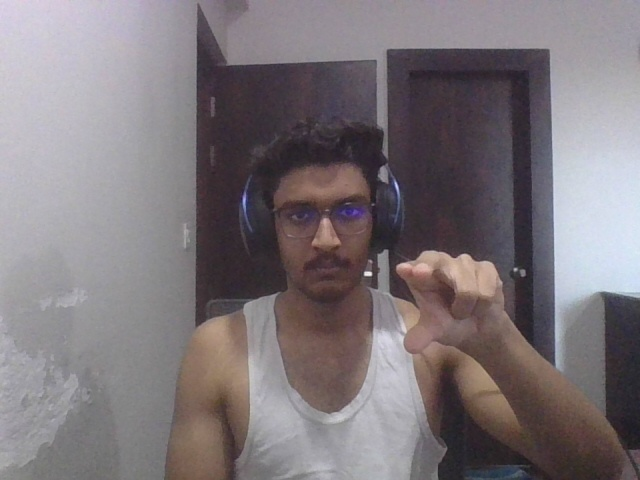No: (386, 245, 510, 356)
